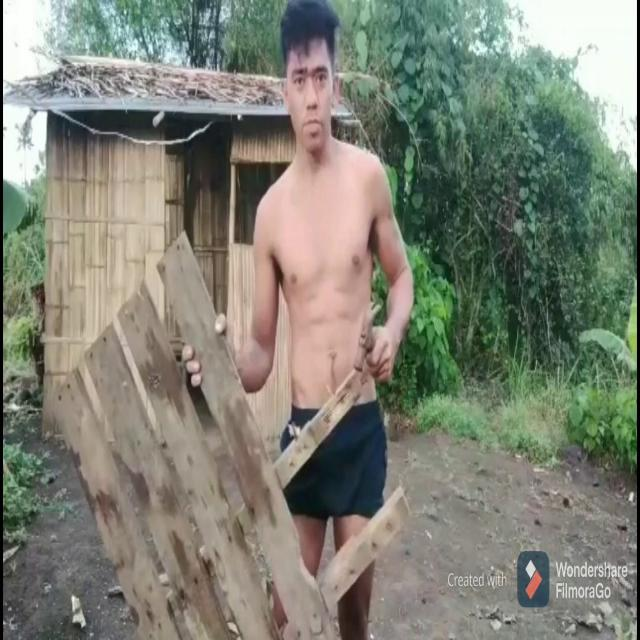hammer: (353, 302, 381, 373)
